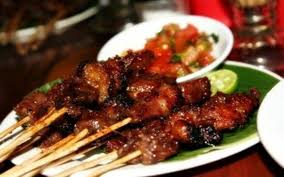sate: (13, 44, 257, 167)
